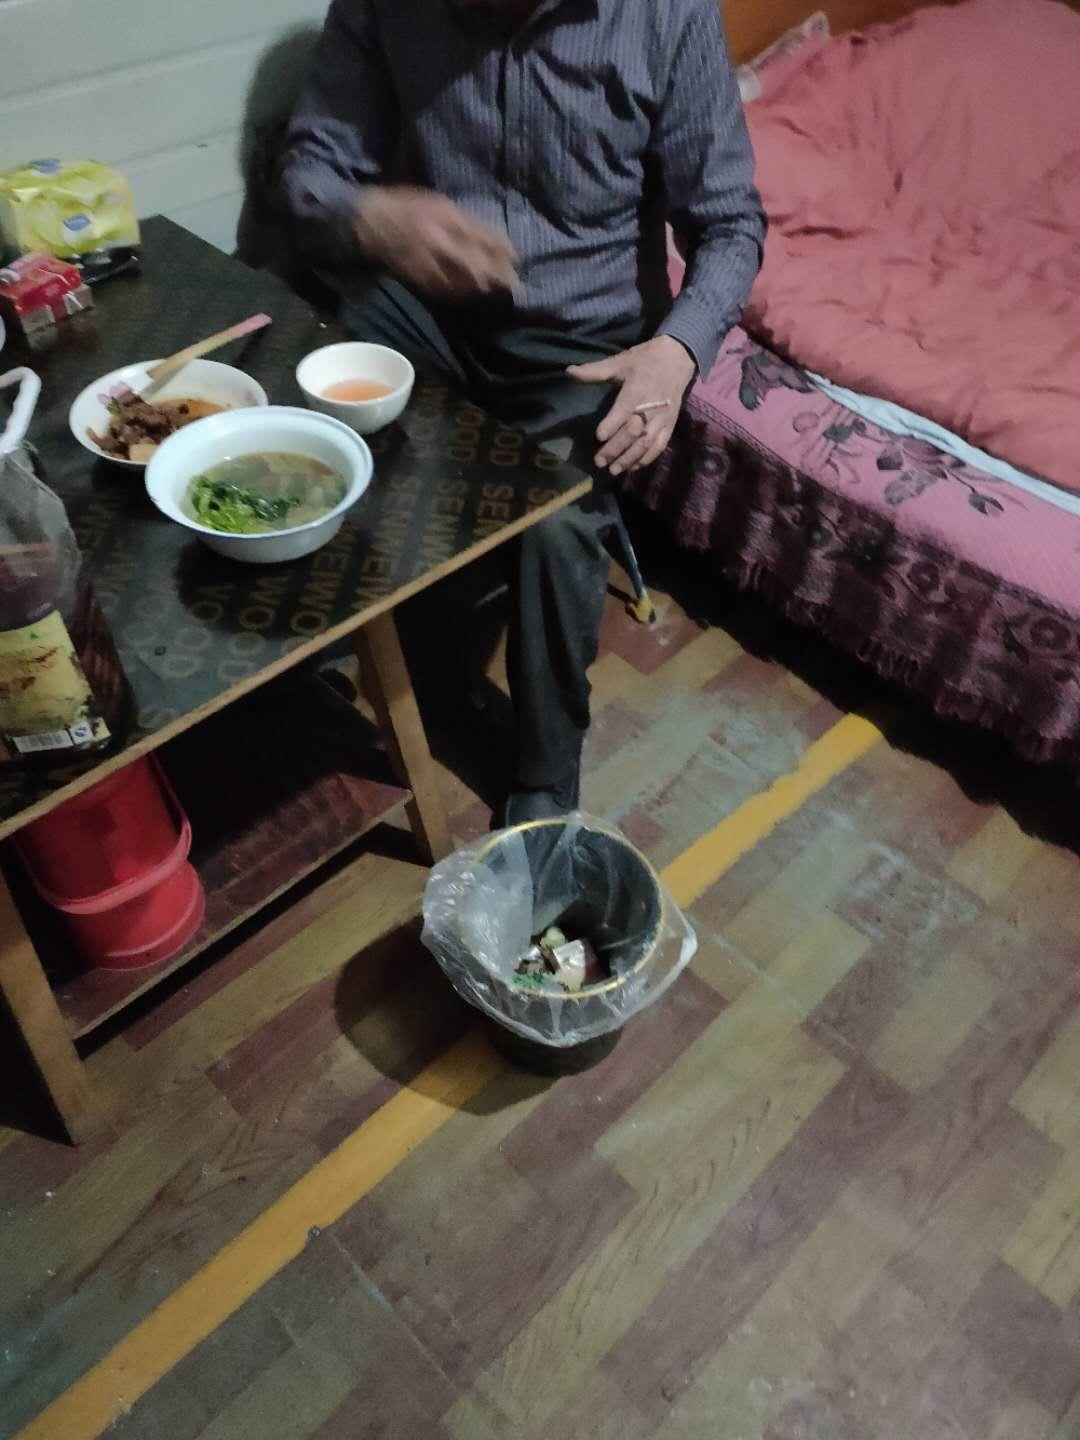Cigarette: (633, 399, 668, 412)
